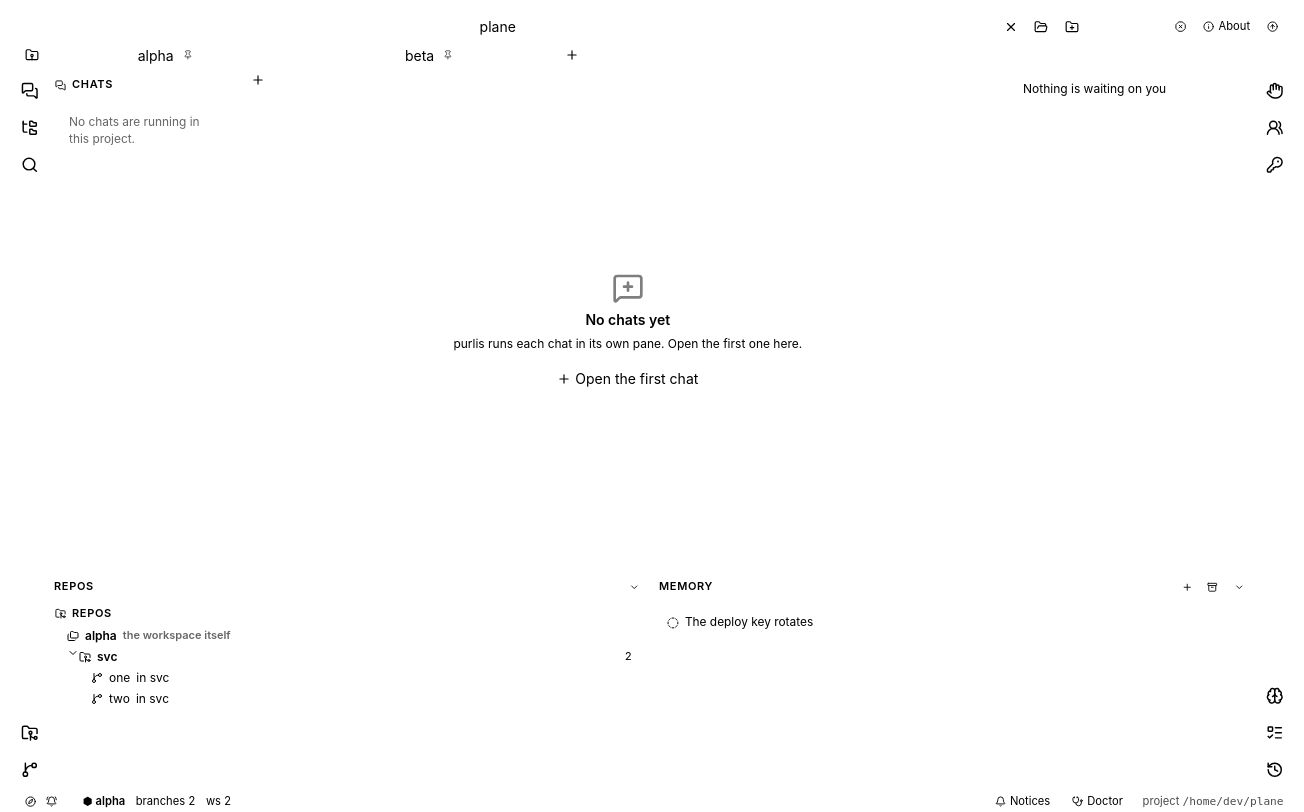
Test case: the four regions › draws every region, and each one is named for what it holds
Check: the panel "Chats" is shown, box [55,77,200,146]
Step 1. Click the tab named "Explorer" → (30, 128), box [12,110,47,145]
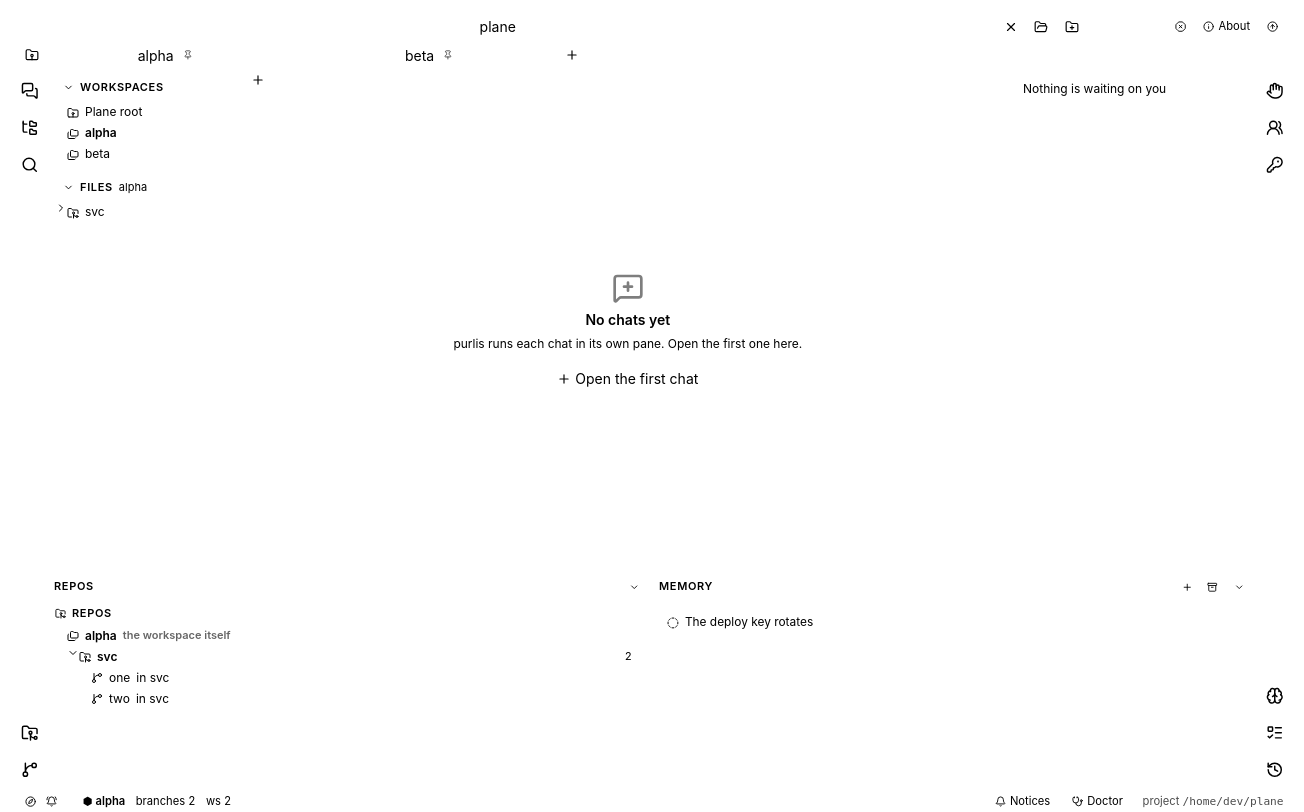
Check: the panel named "Memory" is shown, box [667,614,813,629]
Check: the navigation bar named "Explorer" is shown, box [55,77,233,223]
